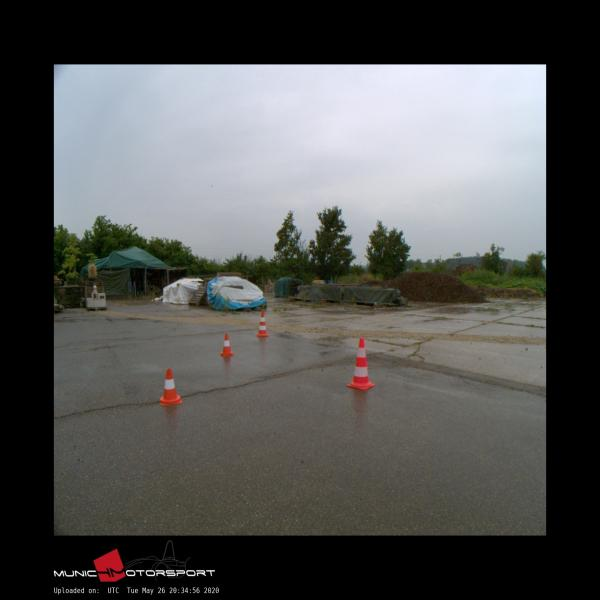large_orange_cone: (346, 338, 375, 389), (256, 311, 269, 336)
orange_cone: (160, 368, 182, 404), (220, 334, 234, 355)
